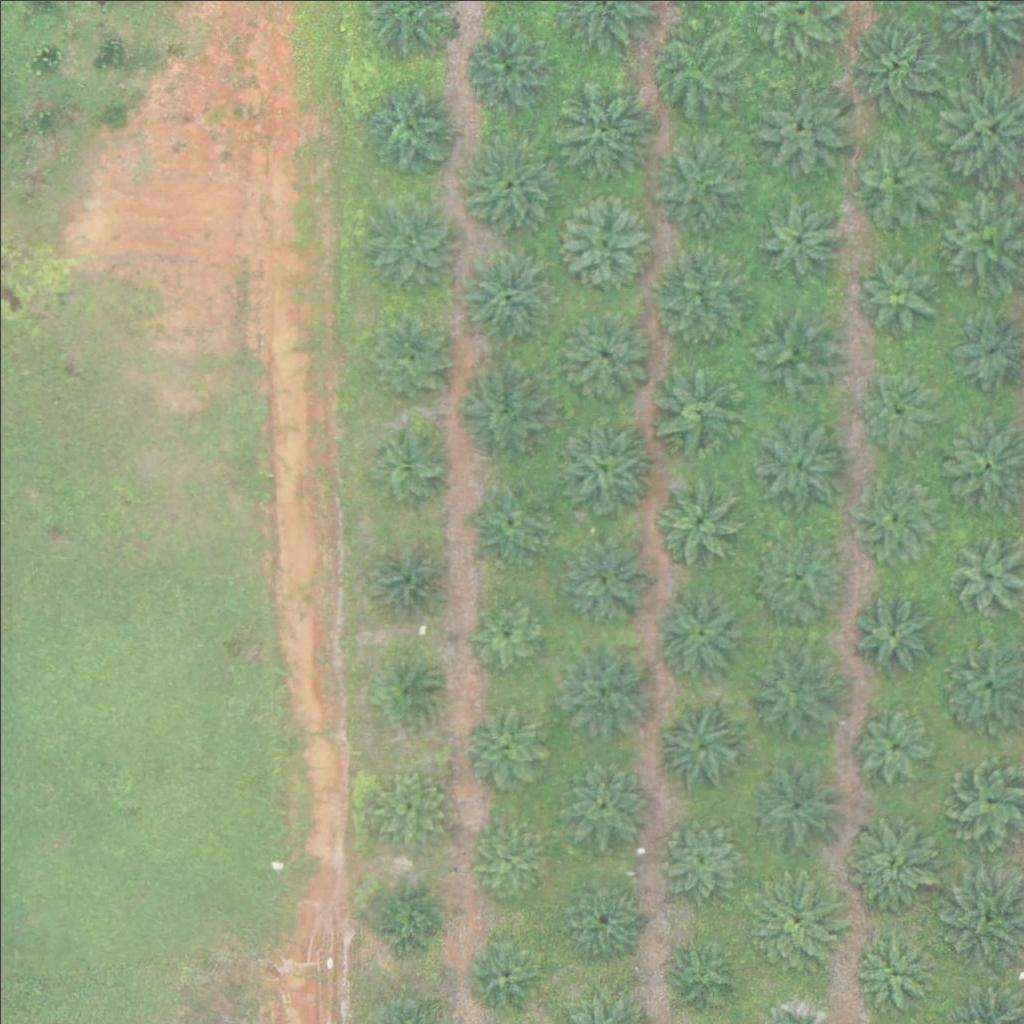Kelapa_Sawit: (741, 871, 841, 972), (558, 637, 658, 738), (653, 806, 753, 907), (653, 696, 753, 797), (747, 756, 847, 857), (744, 303, 844, 404), (649, 250, 749, 351), (644, 129, 744, 230), (553, 190, 653, 291), (554, 79, 654, 180), (451, 245, 551, 346), (458, 134, 558, 235), (359, 75, 459, 176), (455, 357, 555, 457), (555, 418, 655, 518), (649, 361, 749, 461), (744, 641, 844, 741), (749, 414, 849, 514), (839, 813, 939, 913), (848, 130, 948, 230), (750, 82, 850, 182), (641, 21, 741, 121), (555, 871, 643, 960), (559, 306, 647, 395), (656, 932, 744, 1020), (365, 414, 453, 502), (462, 477, 550, 565), (560, 758, 648, 846), (561, 533, 649, 621), (848, 696, 936, 784), (754, 193, 842, 281), (465, 23, 553, 111), (465, 705, 552, 793), (362, 533, 449, 621), (657, 585, 744, 673), (654, 474, 741, 562), (754, 525, 841, 613), (849, 22, 936, 110), (366, 313, 453, 401), (366, 198, 453, 286), (854, 934, 929, 1010), (852, 591, 927, 667), (854, 480, 929, 556), (857, 257, 932, 333), (464, 934, 539, 1009), (466, 592, 541, 667), (374, 771, 449, 846), (367, 879, 442, 954), (472, 823, 547, 898), (862, 366, 937, 441), (381, 660, 444, 723)
